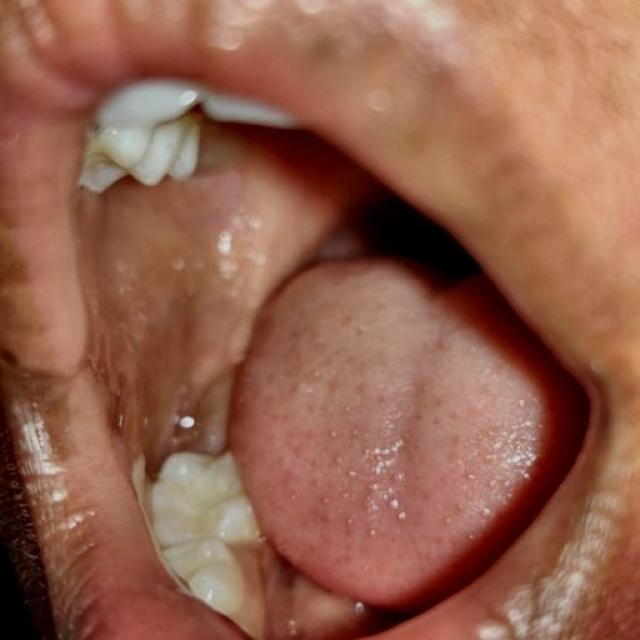processing_area: (77, 118, 537, 638)
